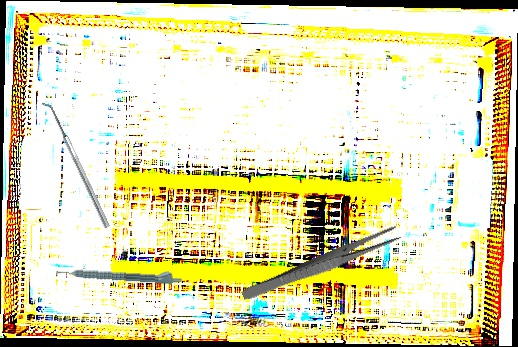Dressing Forceps: (240, 223, 402, 307)
Handpiece: (55, 262, 183, 286)
Spatula Surgical: (40, 99, 111, 231)
